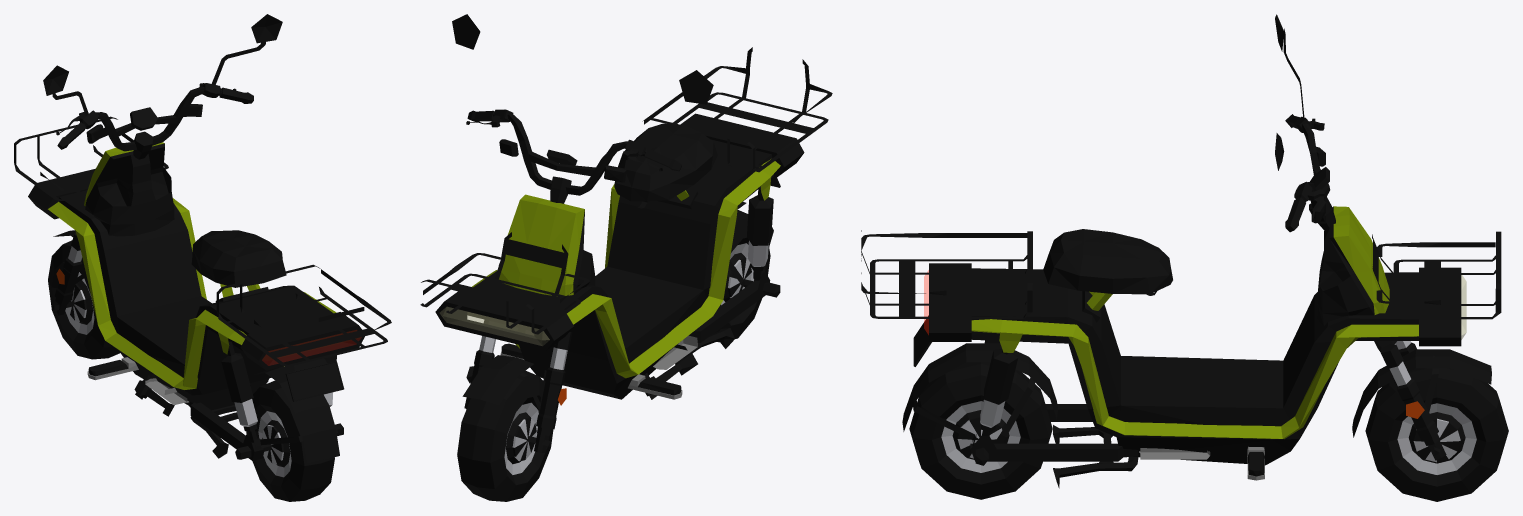
The model's file is v_dlv.glb.
The picture shows the model from 3 angles, left to right: view 1: azimuth 30°, elevation 25°; view 2: azimuth 150°, elevation 25°; view 3: azimuth 270°, elevation 25°; orthographic projection. The views are drawn at different scales.
Visible parts, largest first — view 1: Object_4, Object_16; view 2: Object_4, Object_19; view 3: Object_4.
Part boxes in pixels (bbox=[...]): Object_4: bbox=[14, 14, 391, 501]; Object_16: bbox=[262, 330, 360, 365]; Object_4: bbox=[420, 14, 832, 501]; Object_19: bbox=[440, 307, 549, 345]; Object_4: bbox=[861, 14, 1508, 501].
Size of the model in its own units: 0.8114 by 1.18 by 1.64.
